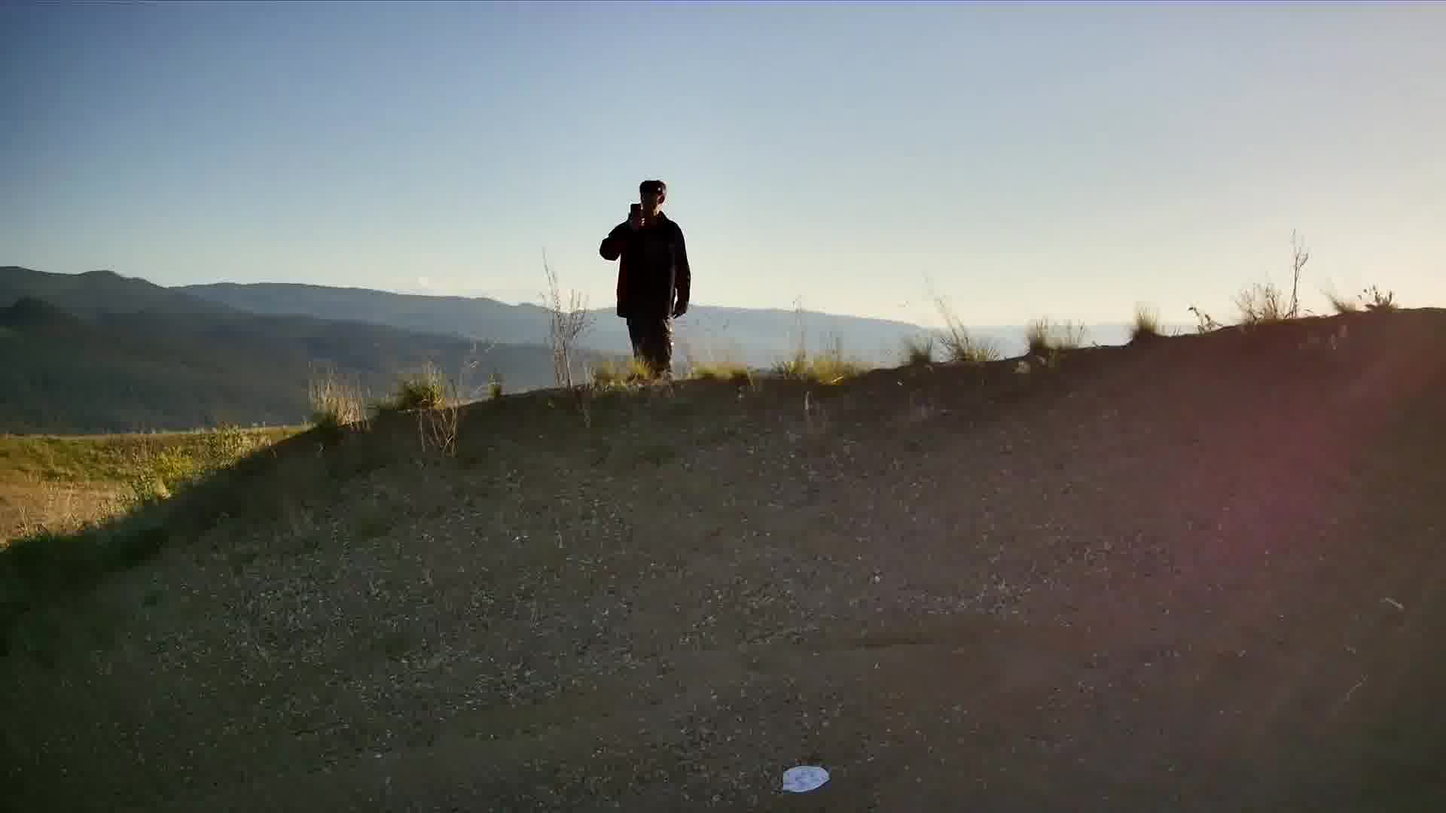Target: (782, 765, 836, 794)
